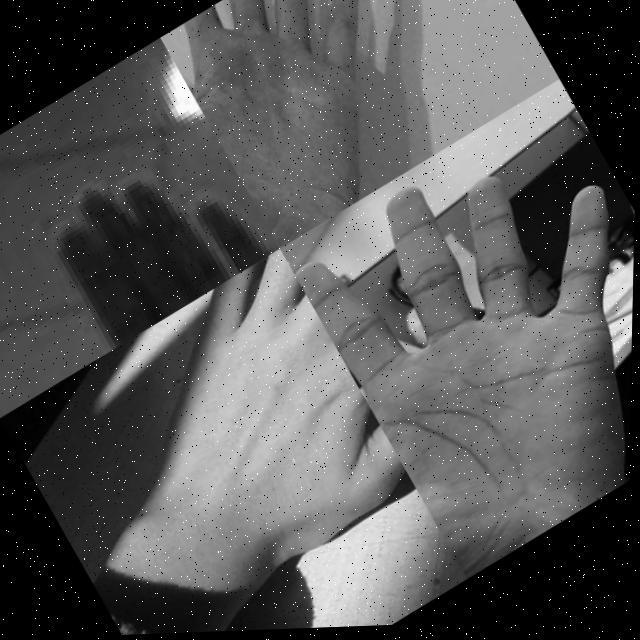no-gloves: (280, 100, 638, 588), (29, 246, 422, 638), (0, 112, 282, 399), (155, 0, 463, 253)
